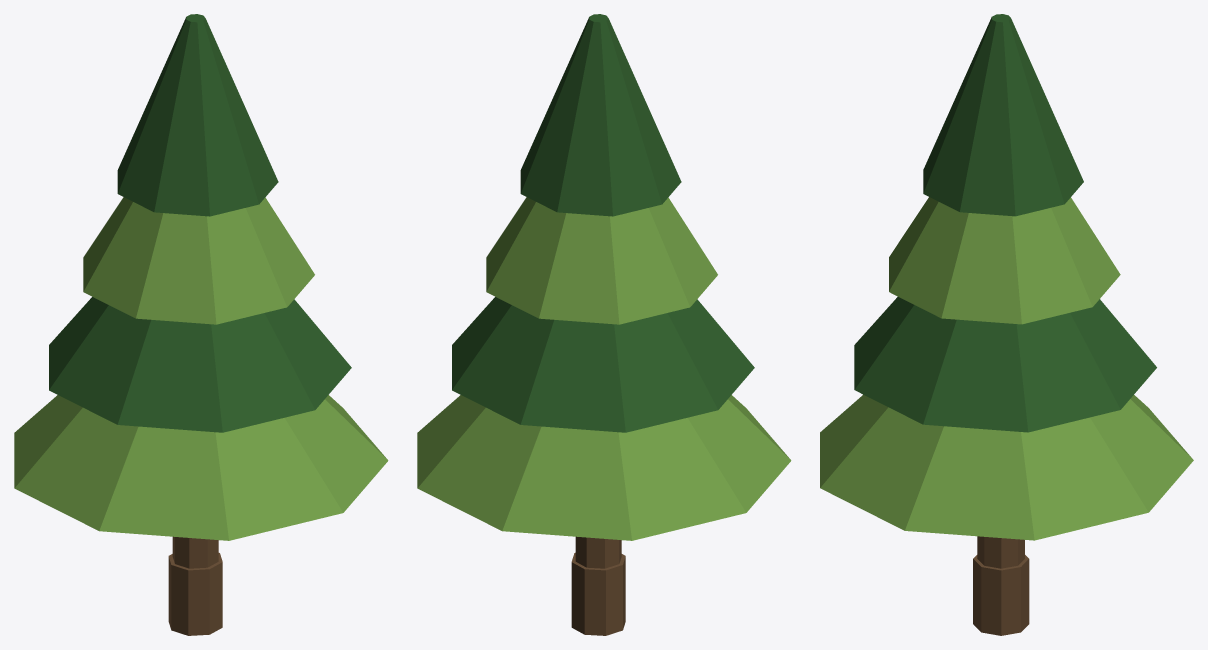
File: NAT_Tree_B.fbx
3 renders of one model, left to right at view 1: azimuth 30°, elevation 25°; view 2: azimuth 150°, elevation 25°; view 3: azimuth 270°, elevation 25°, orthographic.
Parts seen in each view (by area): view 1: NAT_Tree_B__BODY, NAT_Tree_B__COL_Trunk; view 2: NAT_Tree_B__BODY, NAT_Tree_B__COL_Trunk; view 3: NAT_Tree_B__BODY, NAT_Tree_B__COL_Trunk.
Part boxes in pixels (x1,y1,x2,y2): NAT_Tree_B__BODY: (14, 14, 388, 635); NAT_Tree_B__COL_Trunk: (172, 536, 218, 568); NAT_Tree_B__BODY: (417, 14, 791, 635); NAT_Tree_B__COL_Trunk: (575, 536, 621, 568); NAT_Tree_B__BODY: (820, 14, 1193, 635); NAT_Tree_B__COL_Trunk: (977, 536, 1024, 568).
Size of the model in its own units: 5.99 by 10.54 by 5.9.
